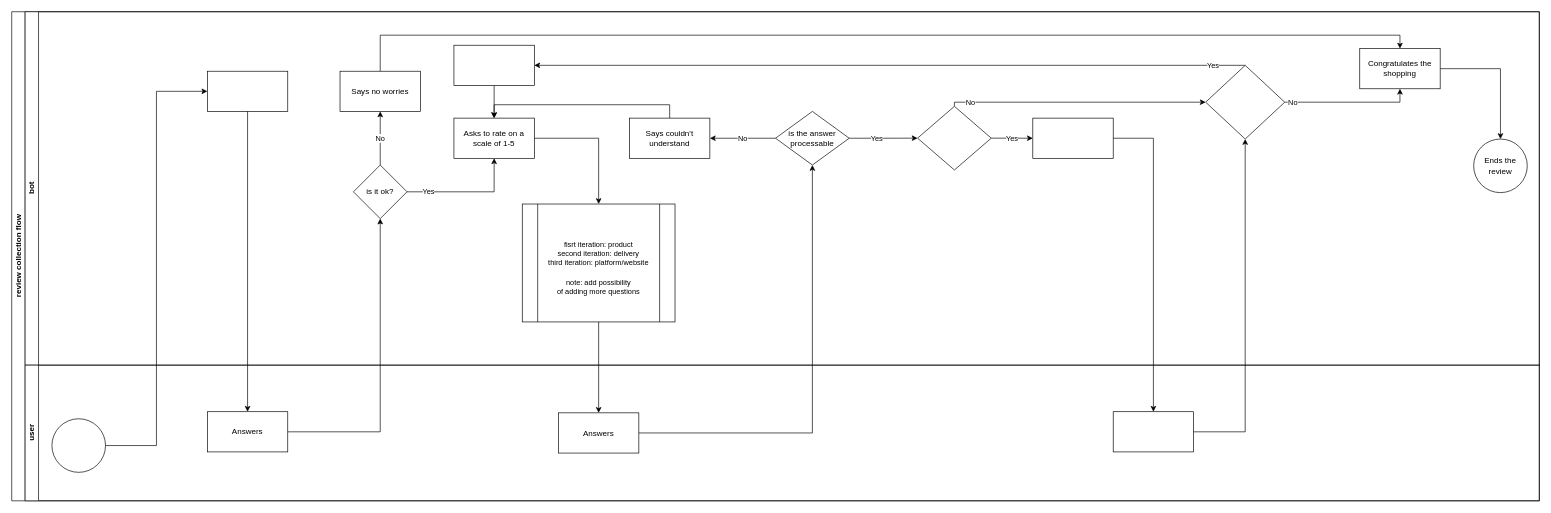
Image size: 1551x513. Some labels were removed from this diagram. The shapes that lost their labels are listed below. From the top down, each one's box as (x1, y1, x2, y2) in pixels, then its label:
(453, 45, 534, 85): Thanks for the asnwer
(207, 71, 288, 111): Asks if they can asnwer few questions
(1205, 65, 1285, 139): is there more questions to ask?
(917, 106, 991, 170): is the rate lower then 4?
(1032, 117, 1113, 158): Asks to justify the answer
(51, 418, 106, 472): Confirms delivery
(1113, 411, 1194, 452): Asnwers
